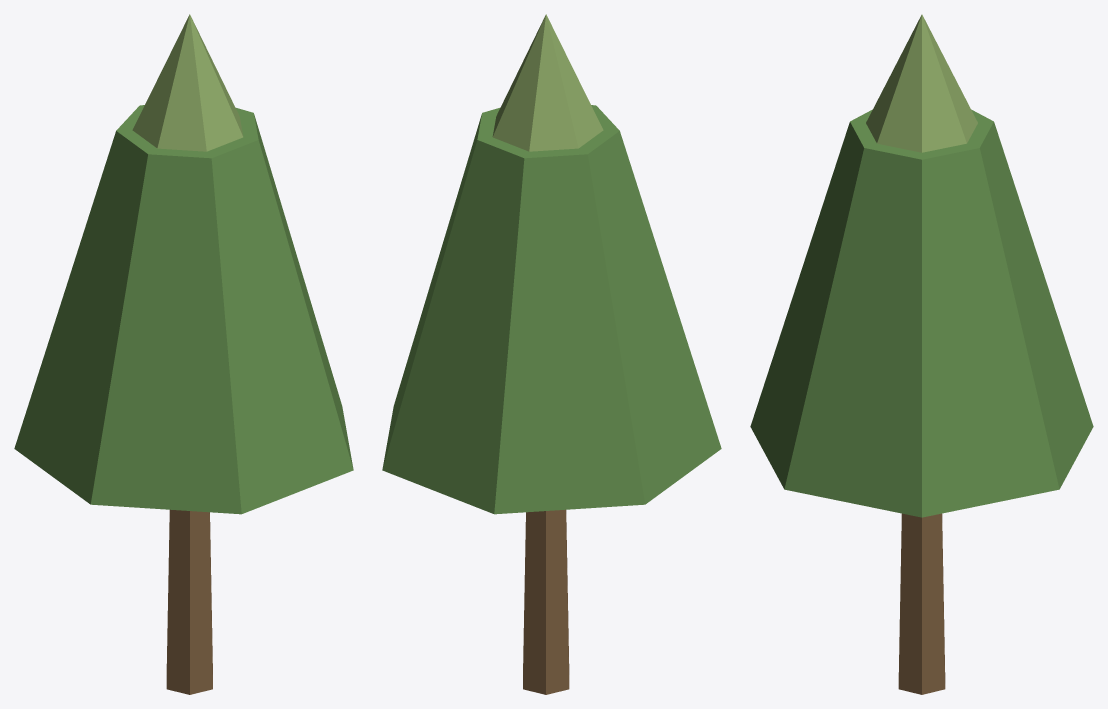
File: tree_deciduous_04.glb
The picture shows the model from 3 angles, left to right: view 1: azimuth 30°, elevation 25°; view 2: azimuth 150°, elevation 25°; view 3: azimuth 270°, elevation 25°; orthographic projection.
Bounding box in the file's own units: 2.49 × 5.5 × 2.55.
